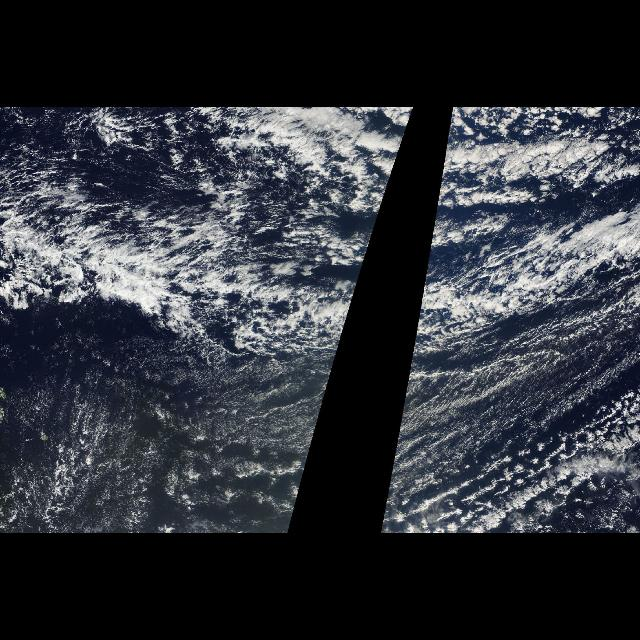Sugar: (2, 317, 336, 531), (422, 368, 562, 426)
